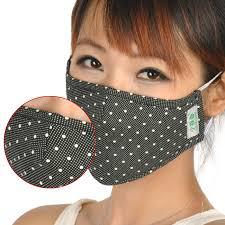OK: (72, 40, 204, 182)
